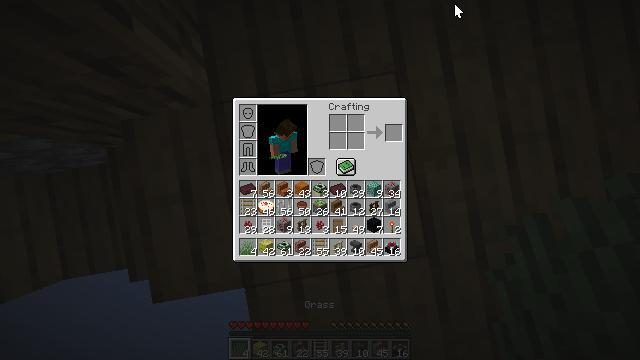cursor: (454, 3, 464, 19)
